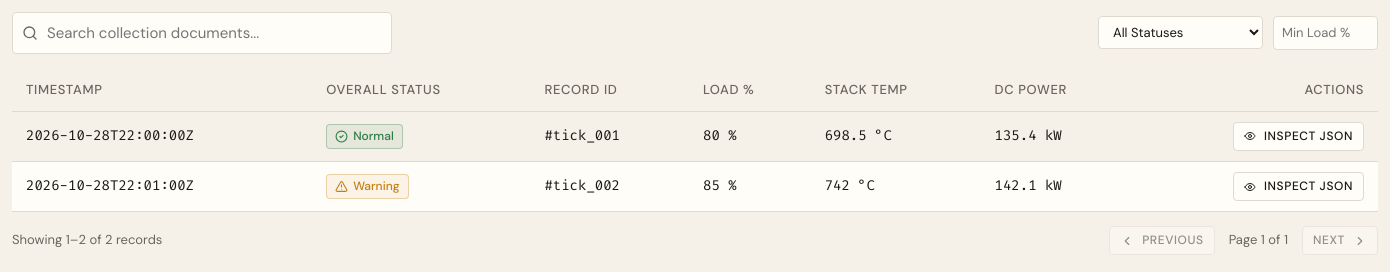
Scenario: Milestone 2 Adversarial & Empirical Stress Suite (Database Explorer) › Empty Query Results & Filtering Edge Cases › resets filters and restores document list when Reset button is clicked
The image size is (1390, 272).
Filter by search query with no matches
Type "completely_nonexistent_id_xyz" into the field labelled "Search collection documents" at coordinates (202, 33), box [12,12,392,54]
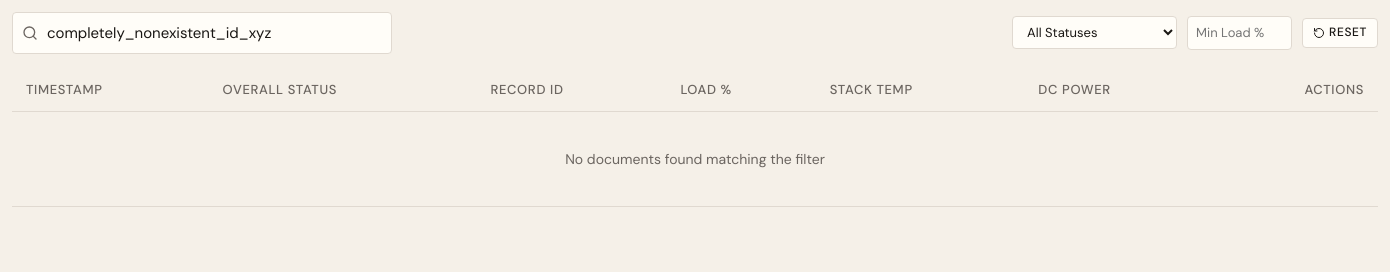
Check: the text "No documents found matching the filter" is shown, box [12,111,1378,207]
Click Reset button
Click the button titled "Reset all filters" at coordinates (1340, 33), box [1302,18,1378,48]
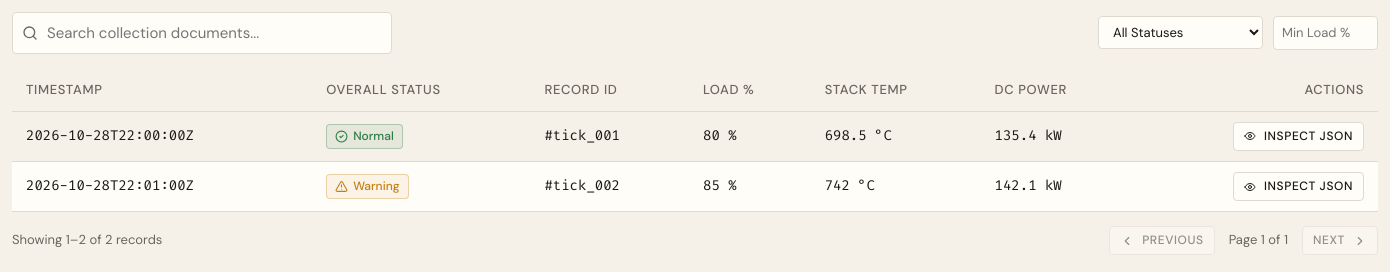
Check: the text "#tick_001" is shown, box [530,111,689,162]
Check: the text "No documents found matching the filter" is gone
